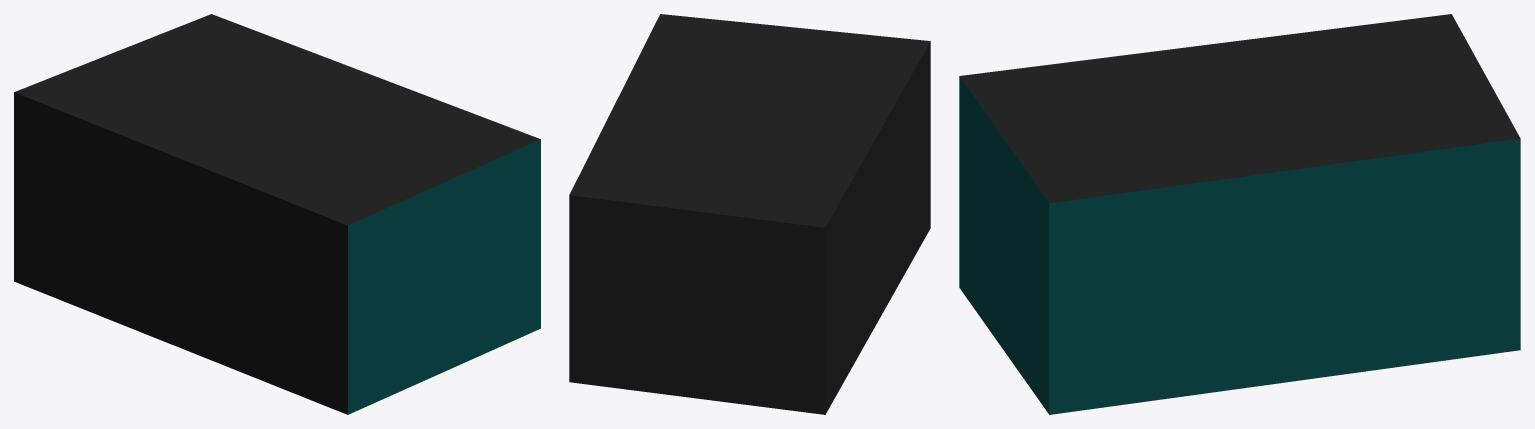
Rendered from B_Werth_55_D_.FBX.
3 renders of one model, left to right at view 1: azimuth 30°, elevation 25°; view 2: azimuth 150°, elevation 25°; view 3: azimuth 270°, elevation 25°, orthographic. The views are drawn at different scales.
Visible parts, largest first — view 1: B_Werth_55_D, B_Werth_55_D_front; view 2: B_Werth_55_D; view 3: B_Werth_55_D_side, B_Werth_55_D, B_Werth_55_D_front.
Part boxes in pixels (bbox=[...]): B_Werth_55_D: bbox=[14, 14, 540, 414]; B_Werth_55_D_front: bbox=[348, 139, 540, 414]; B_Werth_55_D: bbox=[569, 14, 930, 414]; B_Werth_55_D_side: bbox=[1049, 138, 1520, 414]; B_Werth_55_D: bbox=[959, 14, 1520, 203]; B_Werth_55_D_front: bbox=[959, 76, 1049, 414].
Bounding box in the file's own units: 1918 × 1000 × 2403.
